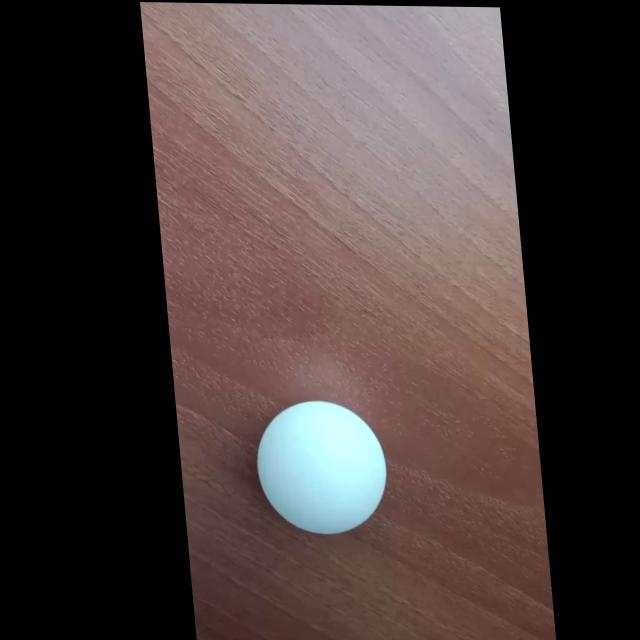white ball: (250, 398, 392, 536)
